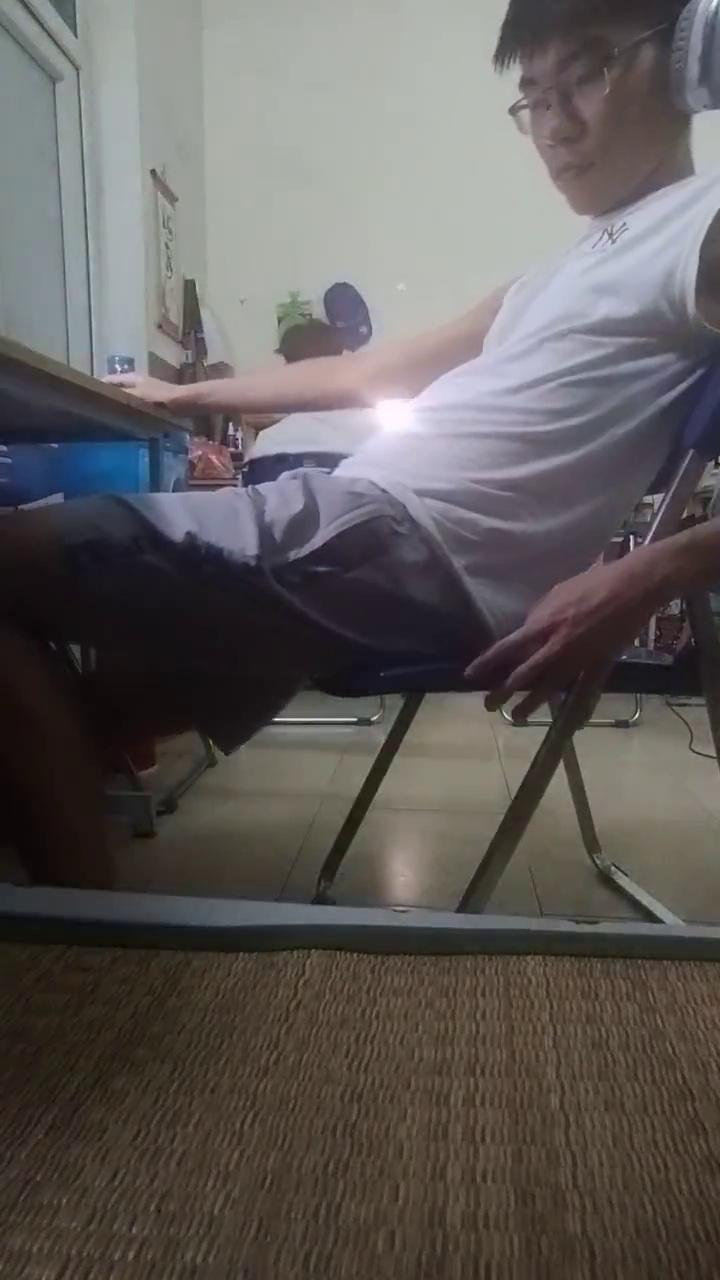BadPosture: (0, 0, 719, 889), (0, 0, 719, 888)
